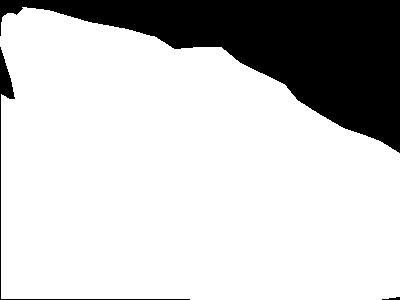Fire: (8, 101, 331, 300)
